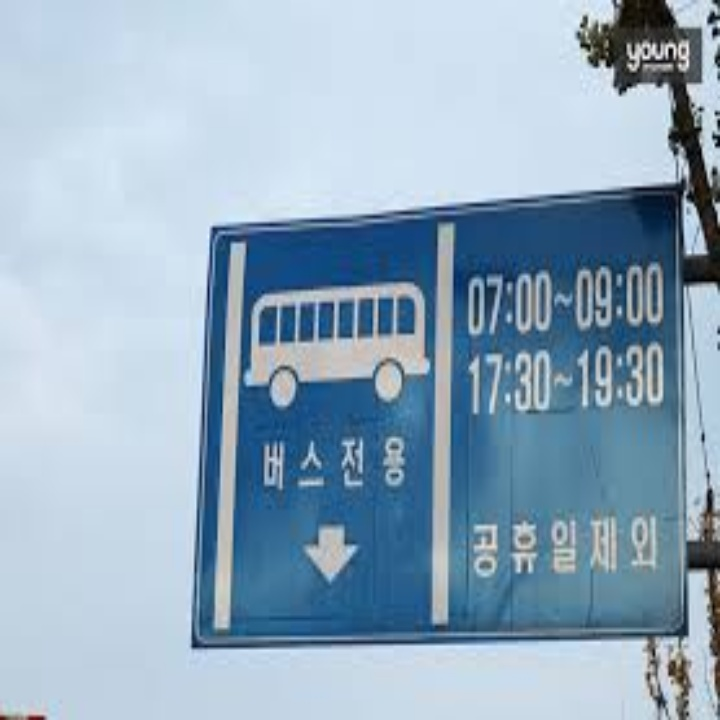bus: (246, 266, 433, 406)
